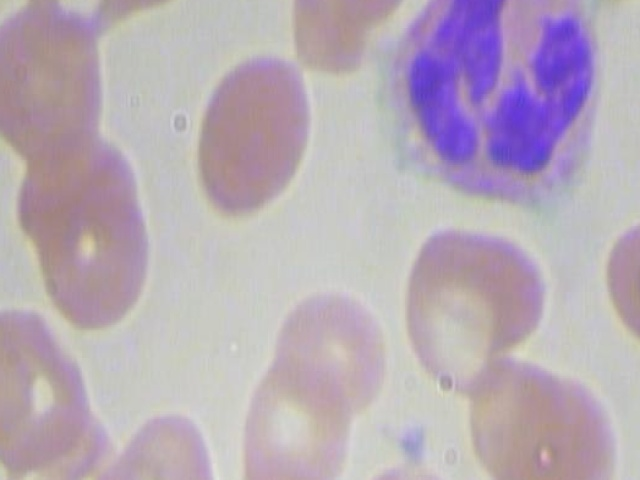RBC: (176, 48, 333, 233), (449, 338, 623, 480), (401, 215, 547, 357), (30, 173, 153, 337), (0, 3, 116, 165), (271, 267, 391, 411), (232, 347, 361, 480), (0, 290, 91, 466), (103, 404, 231, 480), (214, 437, 343, 480), (300, 0, 428, 35), (340, 455, 470, 480), (552, 0, 640, 5), (0, 0, 46, 2)
WBC: (371, 0, 616, 226)
